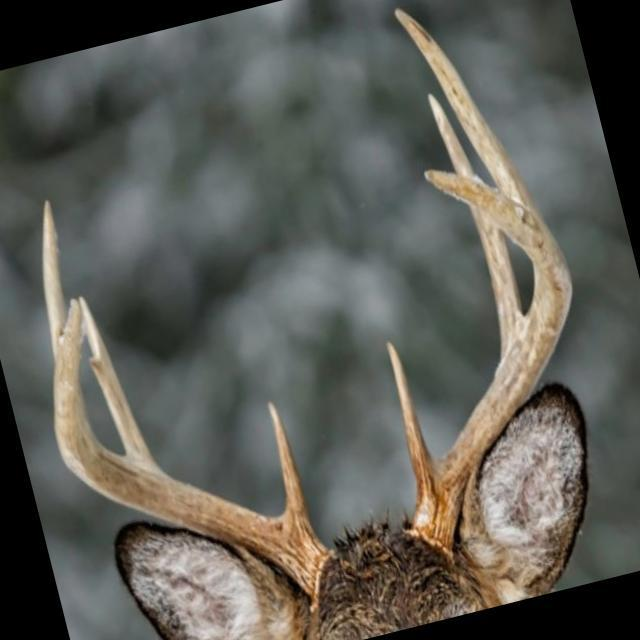L-F: (413, 169, 572, 551)
L-G1: (385, 341, 433, 488)
R-F: (53, 295, 328, 593)
R-G1: (265, 399, 310, 520)
R-G2: (78, 296, 162, 472)
